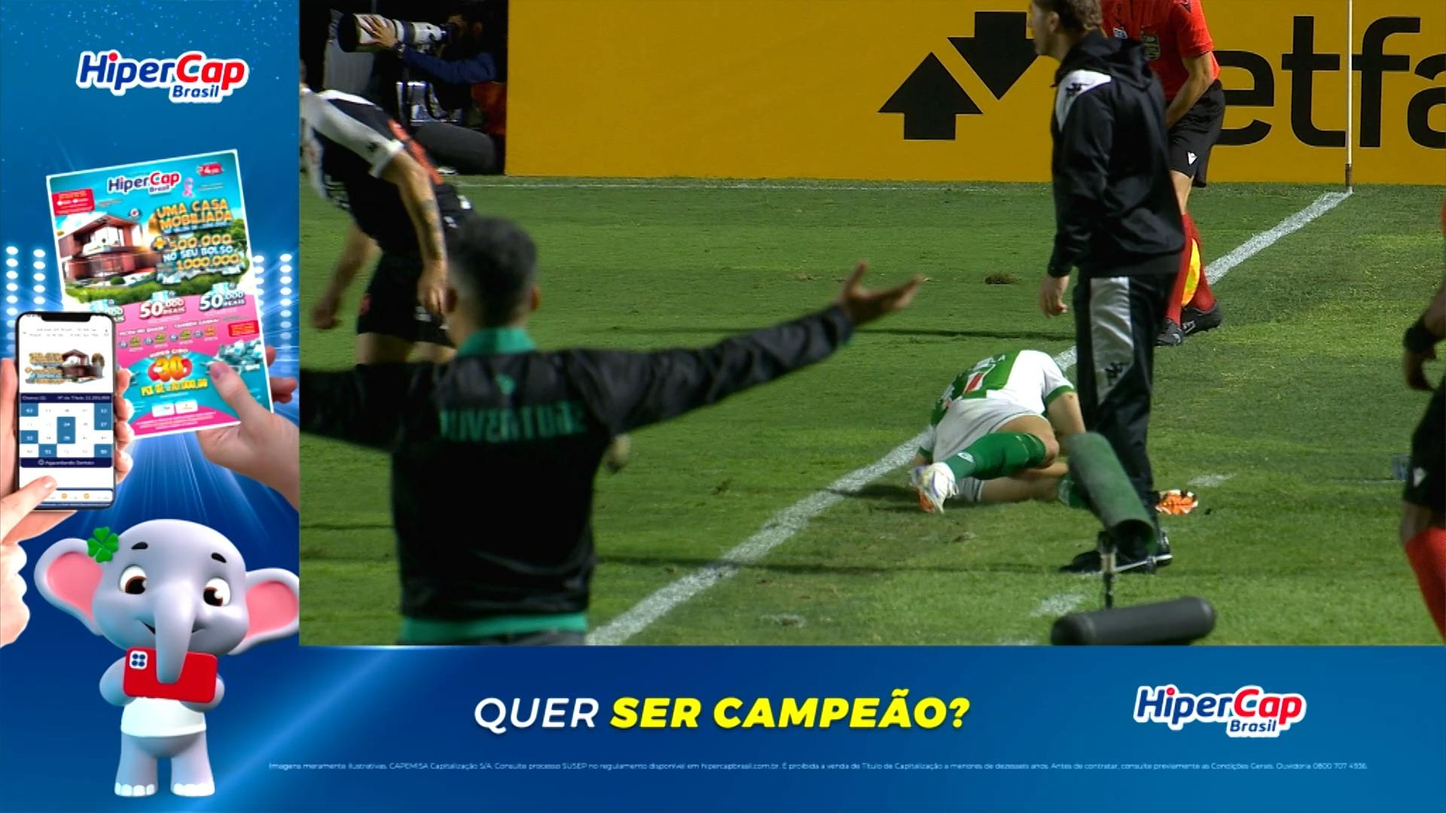objects: (2, 0, 1445, 812)
